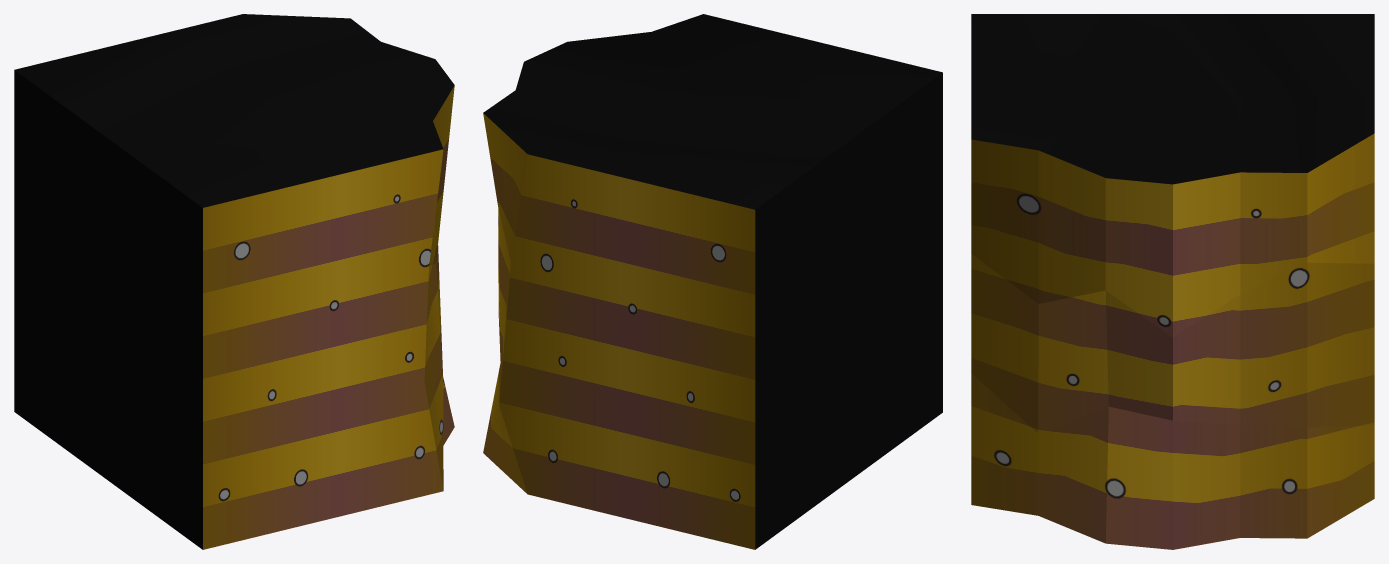
File: dart_clif.fbx
3 views of the same model, side by side, from view 1: azimuth 30°, elevation 25°; view 2: azimuth 150°, elevation 25°; view 3: azimuth 270°, elevation 25° (orthographic). The views are drawn at different scales.
Visible parts, largest first — view 1: glass_clif; view 2: glass_clif; view 3: glass_clif.
Part boxes in pixels (x1,y1,x2,y2): glass_clif: [14, 14, 454, 549]; glass_clif: [483, 14, 942, 549]; glass_clif: [971, 14, 1374, 549].
Bounding box in the file's own units: 20 × 20 × 20.
